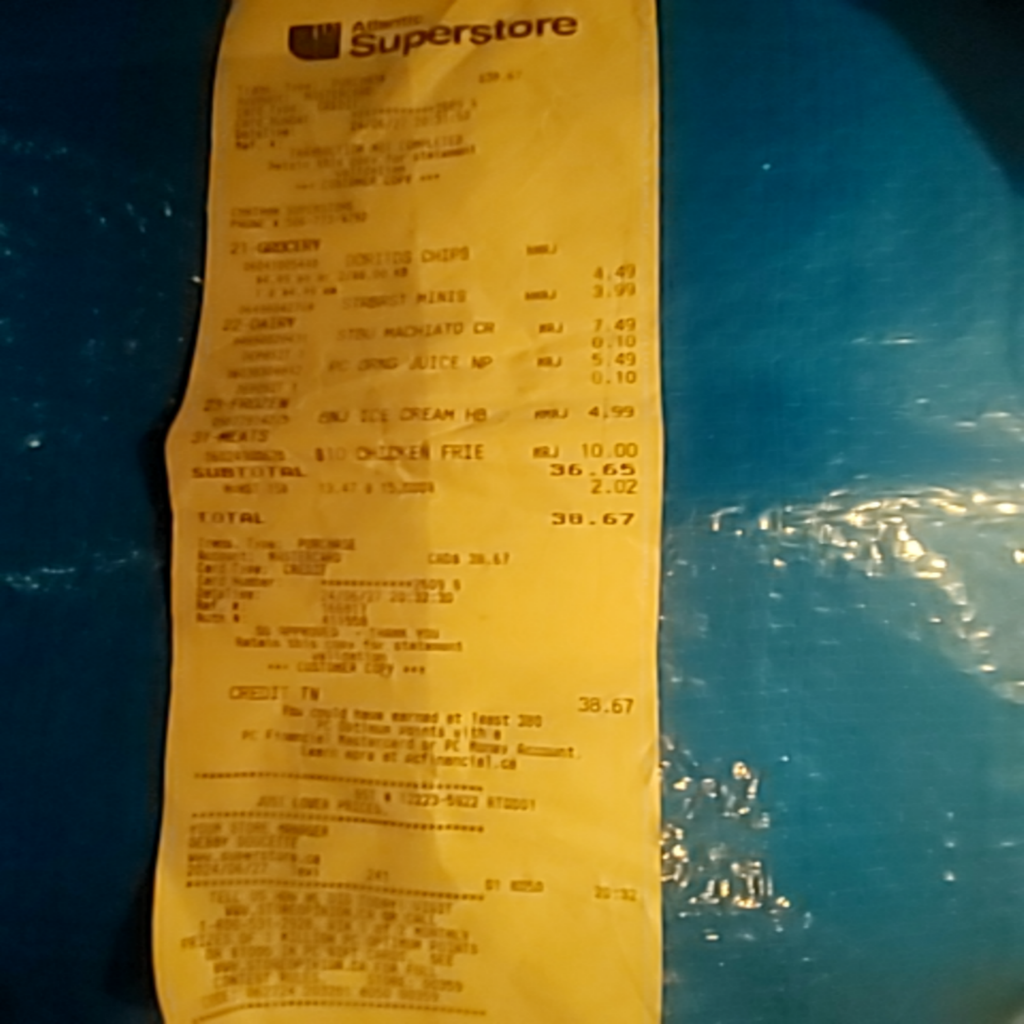recipt: (151, 0, 667, 1024)
